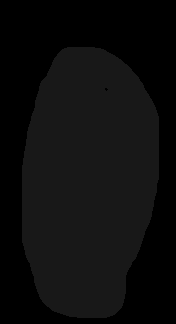fp: (16, 39, 162, 318)
